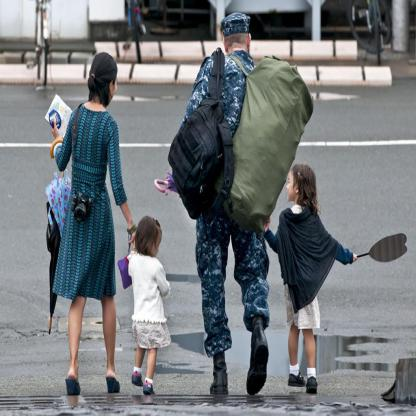face: (151, 233, 163, 258), (287, 173, 297, 202)
